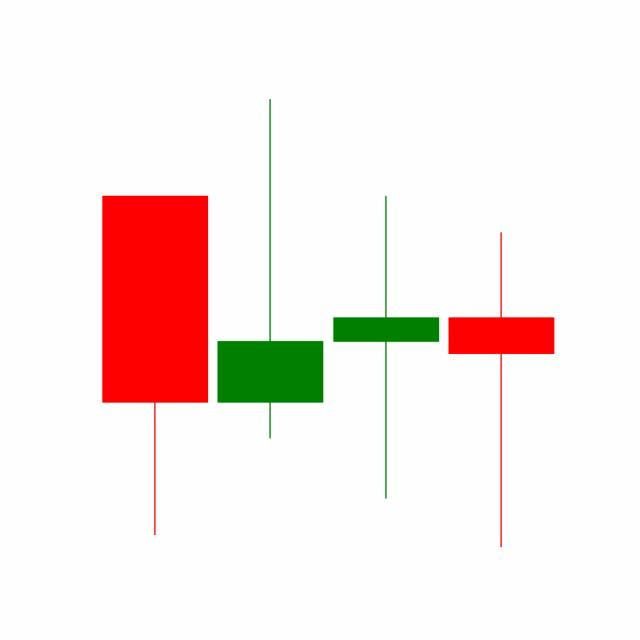Spinning Top: (443, 229, 559, 551)
